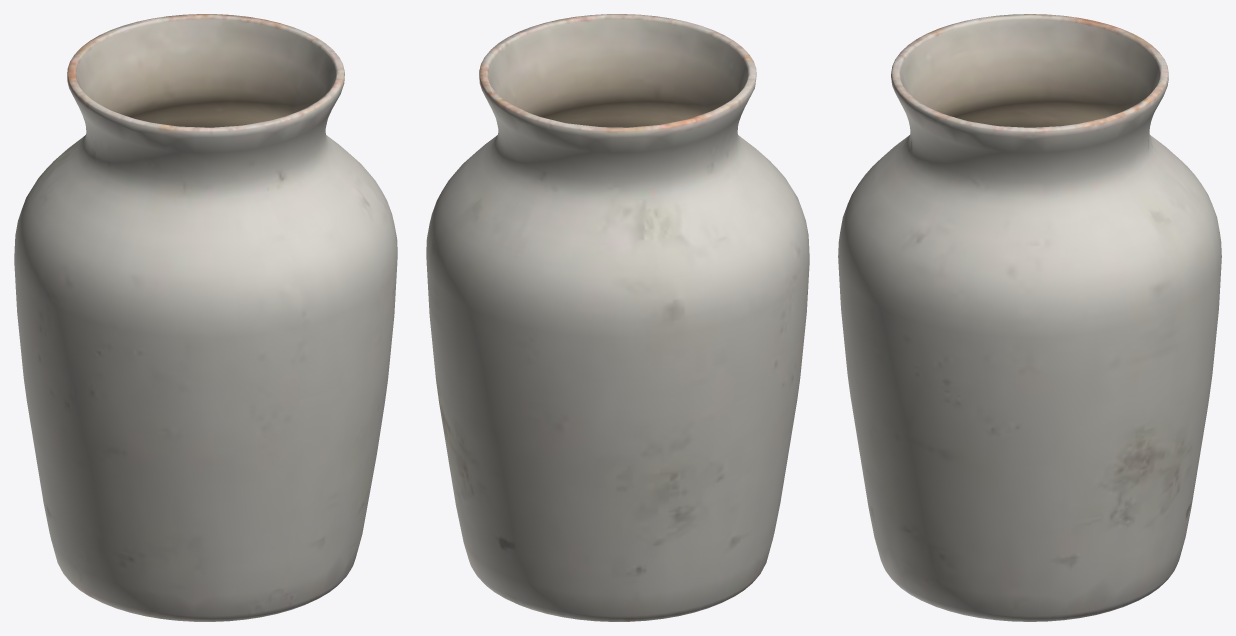
Rendered from vase-round.glb.
The picture shows the model from 3 angles, left to right: view 1: azimuth 30°, elevation 25°; view 2: azimuth 150°, elevation 25°; view 3: azimuth 270°, elevation 25°; orthographic projection.
Visible parts, largest first — view 1: ceramic_vase_02; view 2: ceramic_vase_02; view 3: ceramic_vase_02.
Part boxes in pixels (box(x1,y1,x2,y2)): ceramic_vase_02: box(14, 14, 397, 621); ceramic_vase_02: box(426, 14, 809, 621); ceramic_vase_02: box(838, 14, 1221, 621).
Bounding box in the file's own units: 0.2184 × 0.3092 × 0.2184.
1 material, 1 textured.
